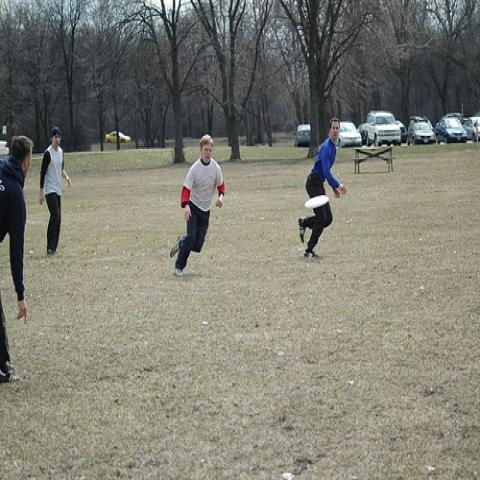car: (364, 111, 401, 148), (434, 118, 468, 144), (335, 120, 365, 148), (407, 119, 436, 146), (463, 116, 480, 143), (295, 123, 309, 148), (106, 130, 131, 144), (396, 120, 408, 145), (358, 122, 369, 145), (444, 113, 462, 123), (0, 141, 10, 156)
